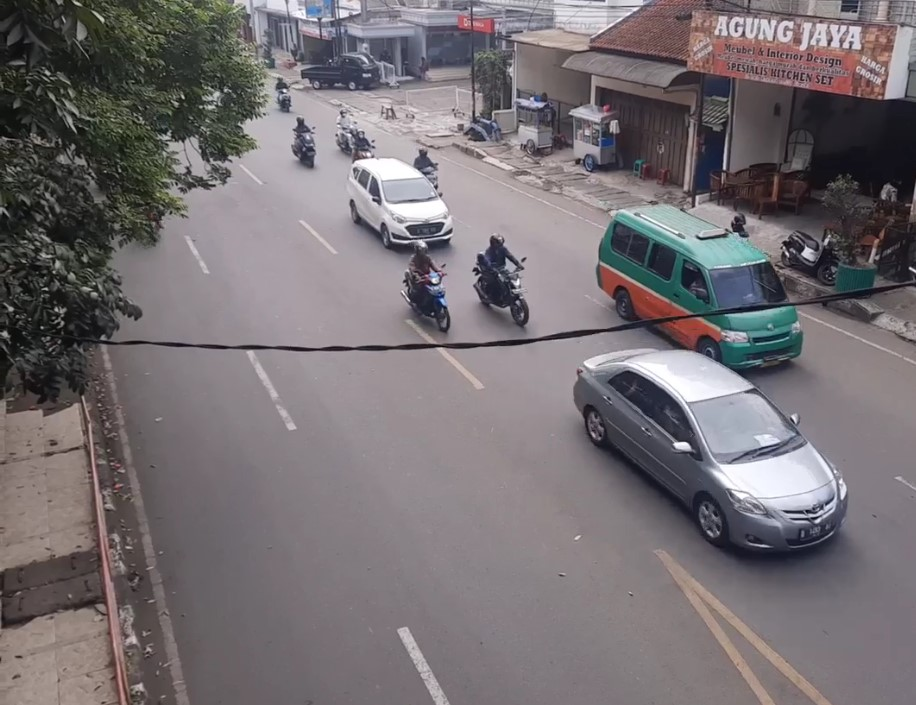mobil: (684, 385, 850, 555), (706, 256, 804, 370), (375, 175, 454, 242)
motor: (470, 232, 529, 332), (402, 240, 454, 335), (287, 114, 316, 169)
